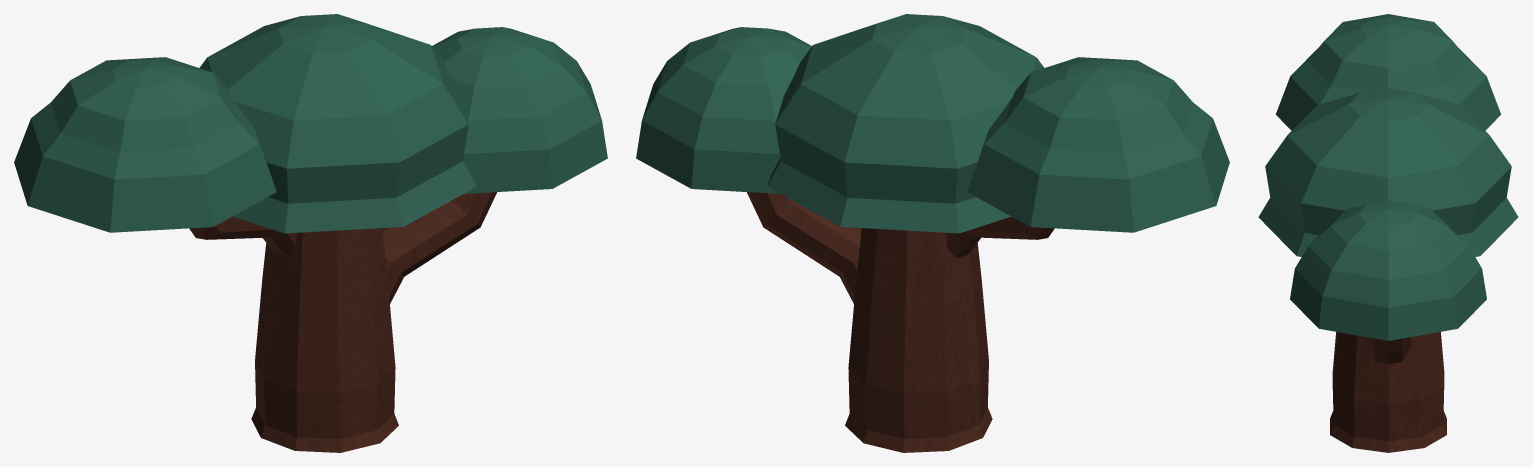
Rendered from Obstaculo_ArvoreGrande.fbx.
3 views of the same model, side by side, from view 1: azimuth 30°, elevation 25°; view 2: azimuth 150°, elevation 25°; view 3: azimuth 270°, elevation 25° (orthographic). The views are drawn at different scales.
Parts seen in each view (by area): view 1: Arvore; view 2: Arvore; view 3: Arvore.
Boxes of the visible parts, x1=… form: Arvore: x1=14, y1=14, x2=607, y2=452; Arvore: x1=636, y1=14, x2=1229, y2=452; Arvore: x1=1258, y1=14, x2=1518, y2=452.
Bounding box in the file's own units: 297 × 198 × 142.
